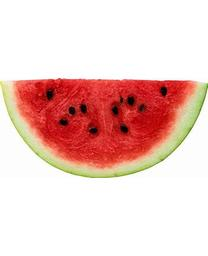watermelon: (1, 79, 207, 178)
